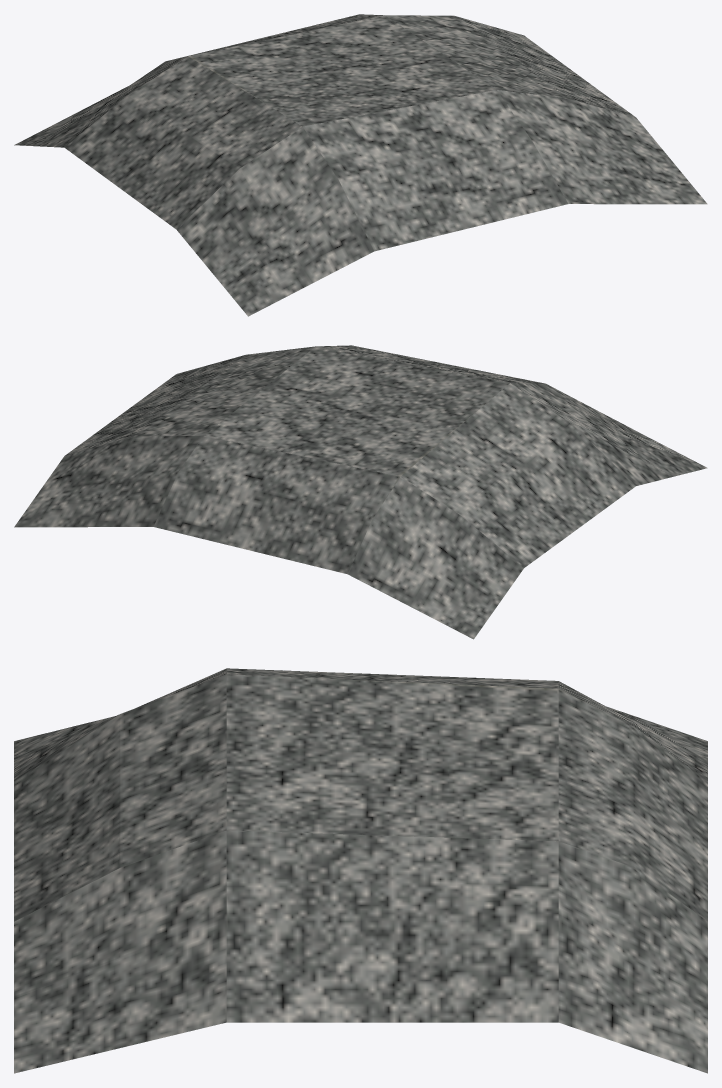
Rendered from SM_EC_Rock_Plane_Raised_00.fbx.
The picture shows the model from 3 angles, top to bottom: view 1: azimuth 30°, elevation 25°; view 2: azimuth 150°, elevation 25°; view 3: azimuth 270°, elevation 25°; orthographic projection. The views are drawn at different scales.
Visible parts, largest first — view 1: SM_EC_Rock_Plane_Raised_00; view 2: SM_EC_Rock_Plane_Raised_00; view 3: SM_EC_Rock_Plane_Raised_00.
Part boxes in pixels (x1,y1,x2,y2): SM_EC_Rock_Plane_Raised_00: (14, 14, 707, 316); SM_EC_Rock_Plane_Raised_00: (14, 345, 707, 639); SM_EC_Rock_Plane_Raised_00: (14, 668, 707, 1073).
Size of the model in its own units: 2.37 by 2.09 by 0.5255.
